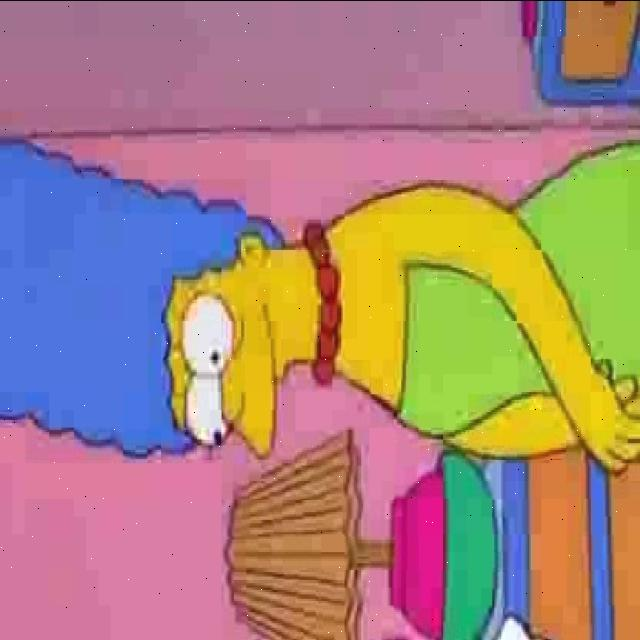Marge Simpson: (1, 133, 344, 467)
